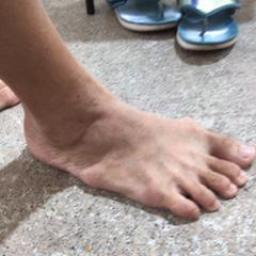Lateral View -Right Foot-: (1, 81, 255, 229)
